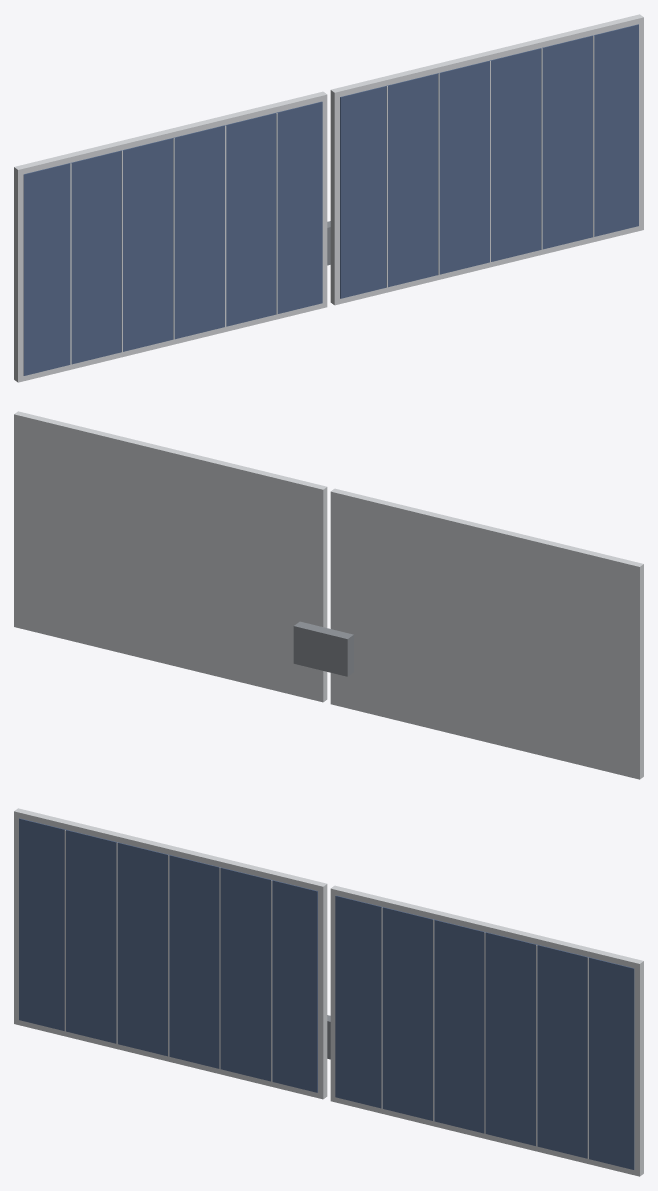
The model's file is balkonkraftwerk.glb.
The picture shows the model from 3 angles, top to bottom: view 1: azimuth 30°, elevation 25°; view 2: azimuth 150°, elevation 25°; view 3: azimuth 330°, elevation 25°; orthographic projection.
Bounding box in the file's own units: 3.48 × 1.13 × 0.107.
